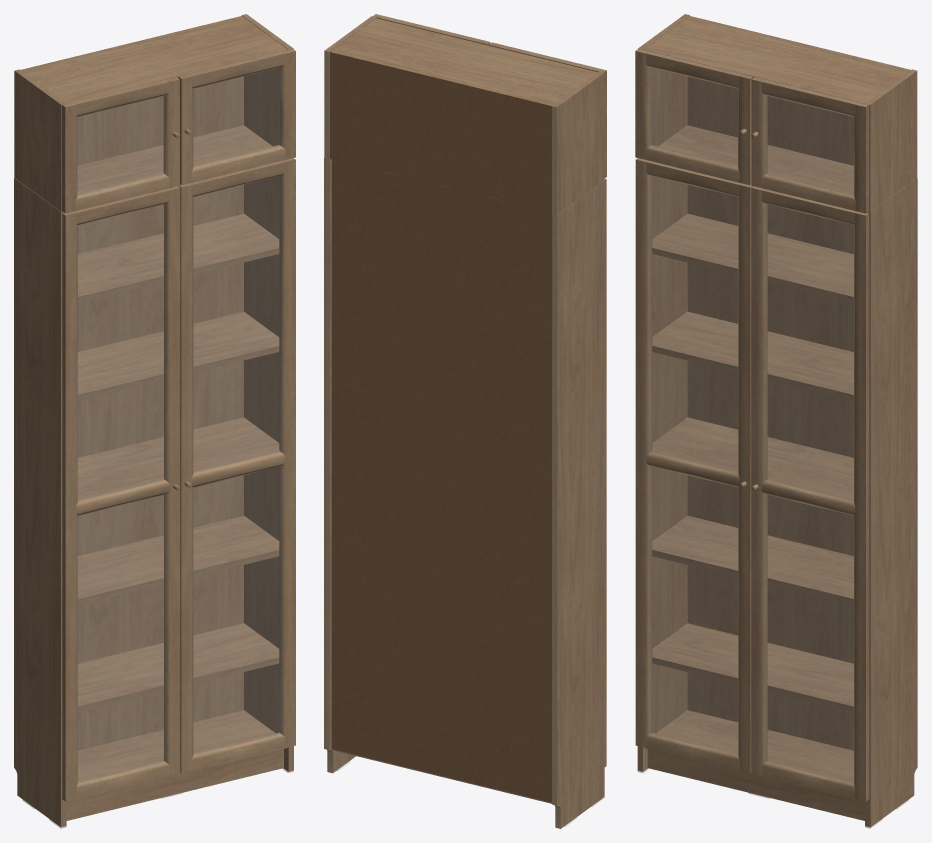
The model's file is 07 - BILLY OXBERG Bookcase w glass doorsext unit - oak effectclear glass 80x30x237 cm.glb.
The picture shows the model from 3 angles, left to right: view 1: azimuth 30°, elevation 25°; view 2: azimuth 150°, elevation 25°; view 3: azimuth 330°, elevation 25°; orthographic projection.
Visible parts, largest first — view 1: Mesh_0, Mesh_2; view 2: Mesh_0; view 3: Mesh_0, Mesh_2.
Boxes of the visible parts, box(x1,y1,x2,y2) form: Mesh_0: box(14, 14, 295, 827); Mesh_2: box(77, 68, 280, 783); Mesh_0: box(324, 14, 606, 828); Mesh_0: box(635, 14, 917, 827); Mesh_2: box(650, 67, 853, 783).
Bounding box in the file's own units: 0.8001 × 2.38 × 0.3205.
2 materials, 2 textured.
